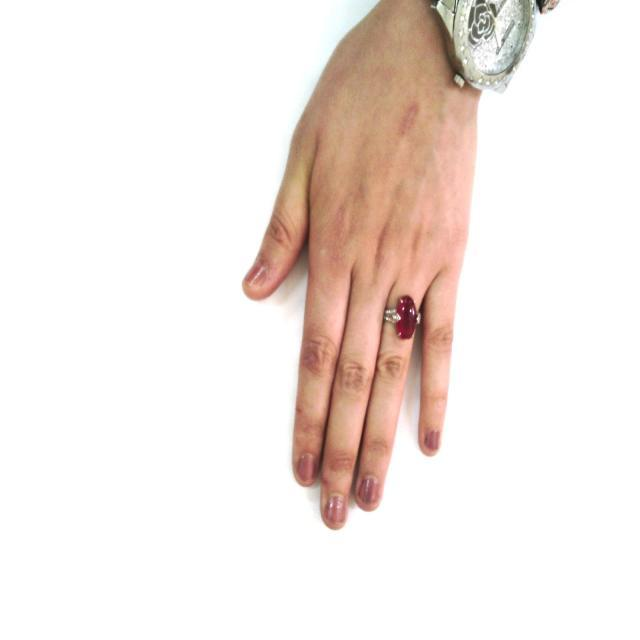Fingernail: (326, 494, 346, 528), (359, 477, 380, 507), (243, 258, 265, 286), (298, 454, 315, 486), (425, 430, 439, 452)
